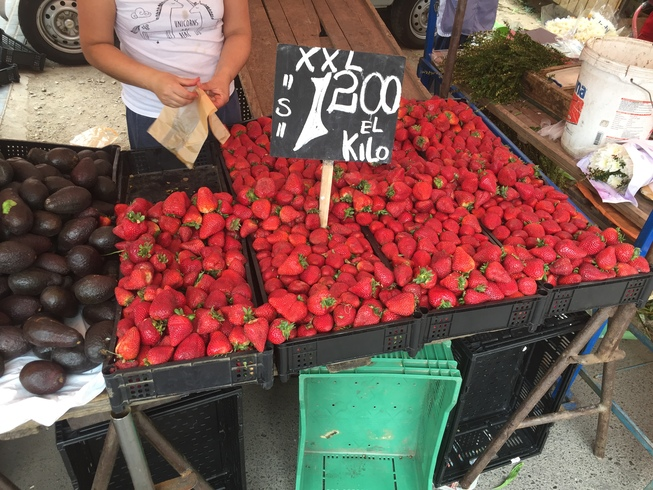precio: (266, 39, 408, 171)
